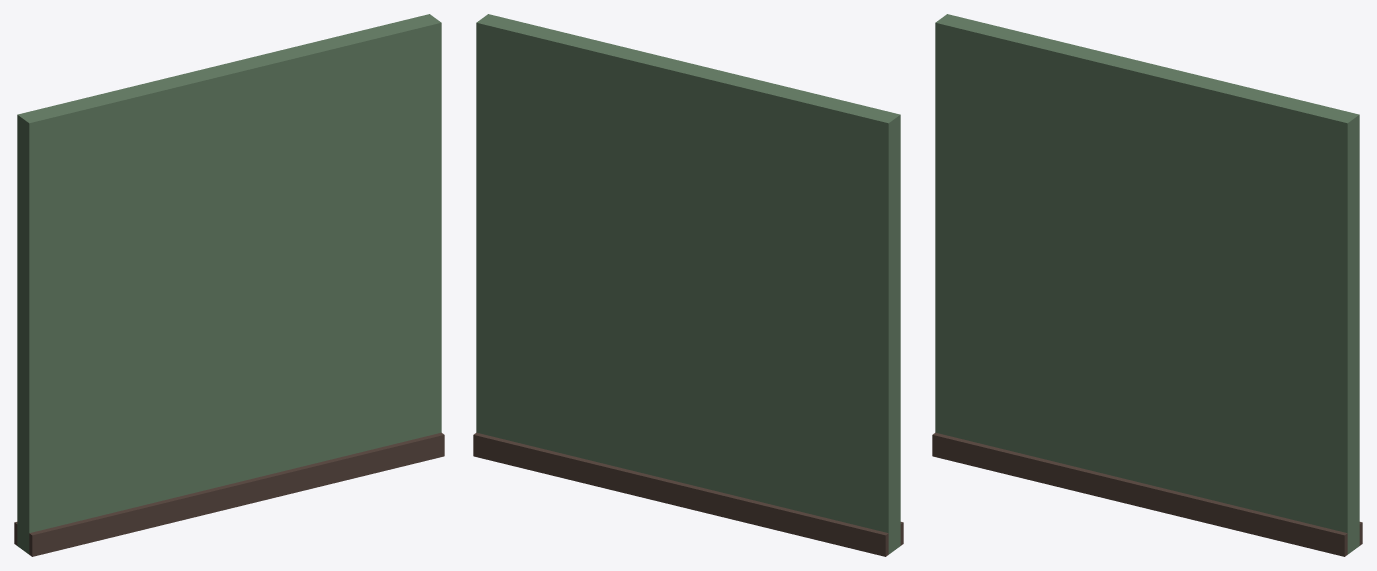
File: h_wall_1_4.fbx
3 renders of one model, left to right at view 1: azimuth 30°, elevation 25°; view 2: azimuth 150°, elevation 25°; view 3: azimuth 330°, elevation 25°, orthographic.
Parts seen in each view (by area): view 1: Cube; view 2: Cube; view 3: Cube.
Boxes of the visible parts, x1,y1,x2,y2 form: Cube: (14,14,444,556); Cube: (473,14,903,556); Cube: (932,14,1362,556).
Size of the model in its own units: 400 by 400 by 30.
